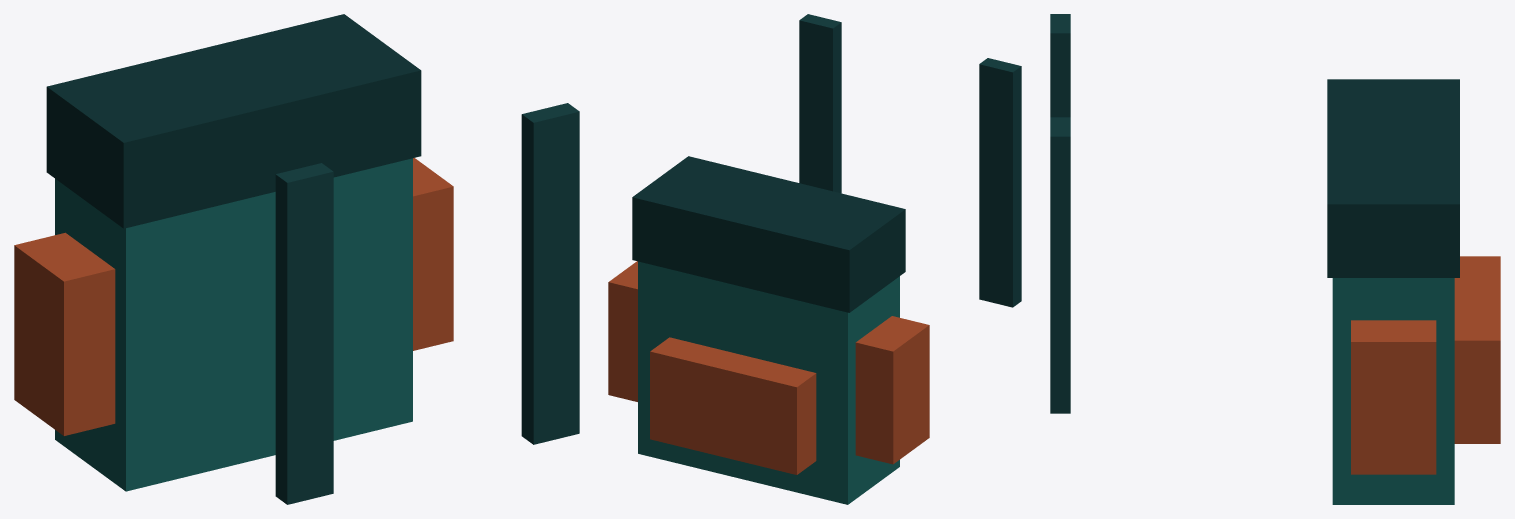
The model's file is gear_pack_school_bag.glb.
3 views of the same model, side by side, from view 1: azimuth 30°, elevation 25°; view 2: azimuth 150°, elevation 25°; view 3: azimuth 270°, elevation 25° (orthographic). The views are drawn at different scales.
Visible parts, largest first — view 1: pack, torso; view 2: pack, torso; view 3: pack, torso.
Part boxes in pixels (x1,y1,x2,y2): pack: (14, 14, 453, 491); torso: (275, 103, 579, 504); pack: (608, 156, 929, 504); torso: (799, 14, 1021, 307); pack: (1327, 79, 1500, 504); torso: (1050, 14, 1070, 413).
Bounding box in the file's own units: 0.38 × 0.4 × 0.442.
